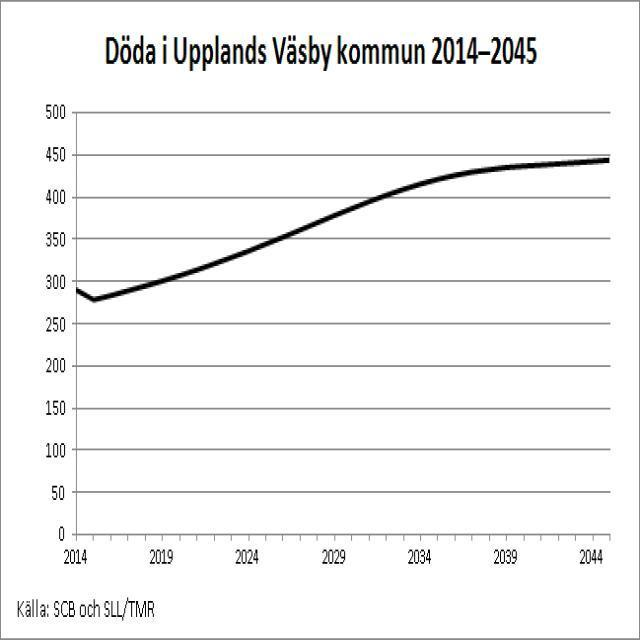axis: (69, 530, 618, 545), (68, 97, 84, 545)
line: (73, 154, 612, 307)
